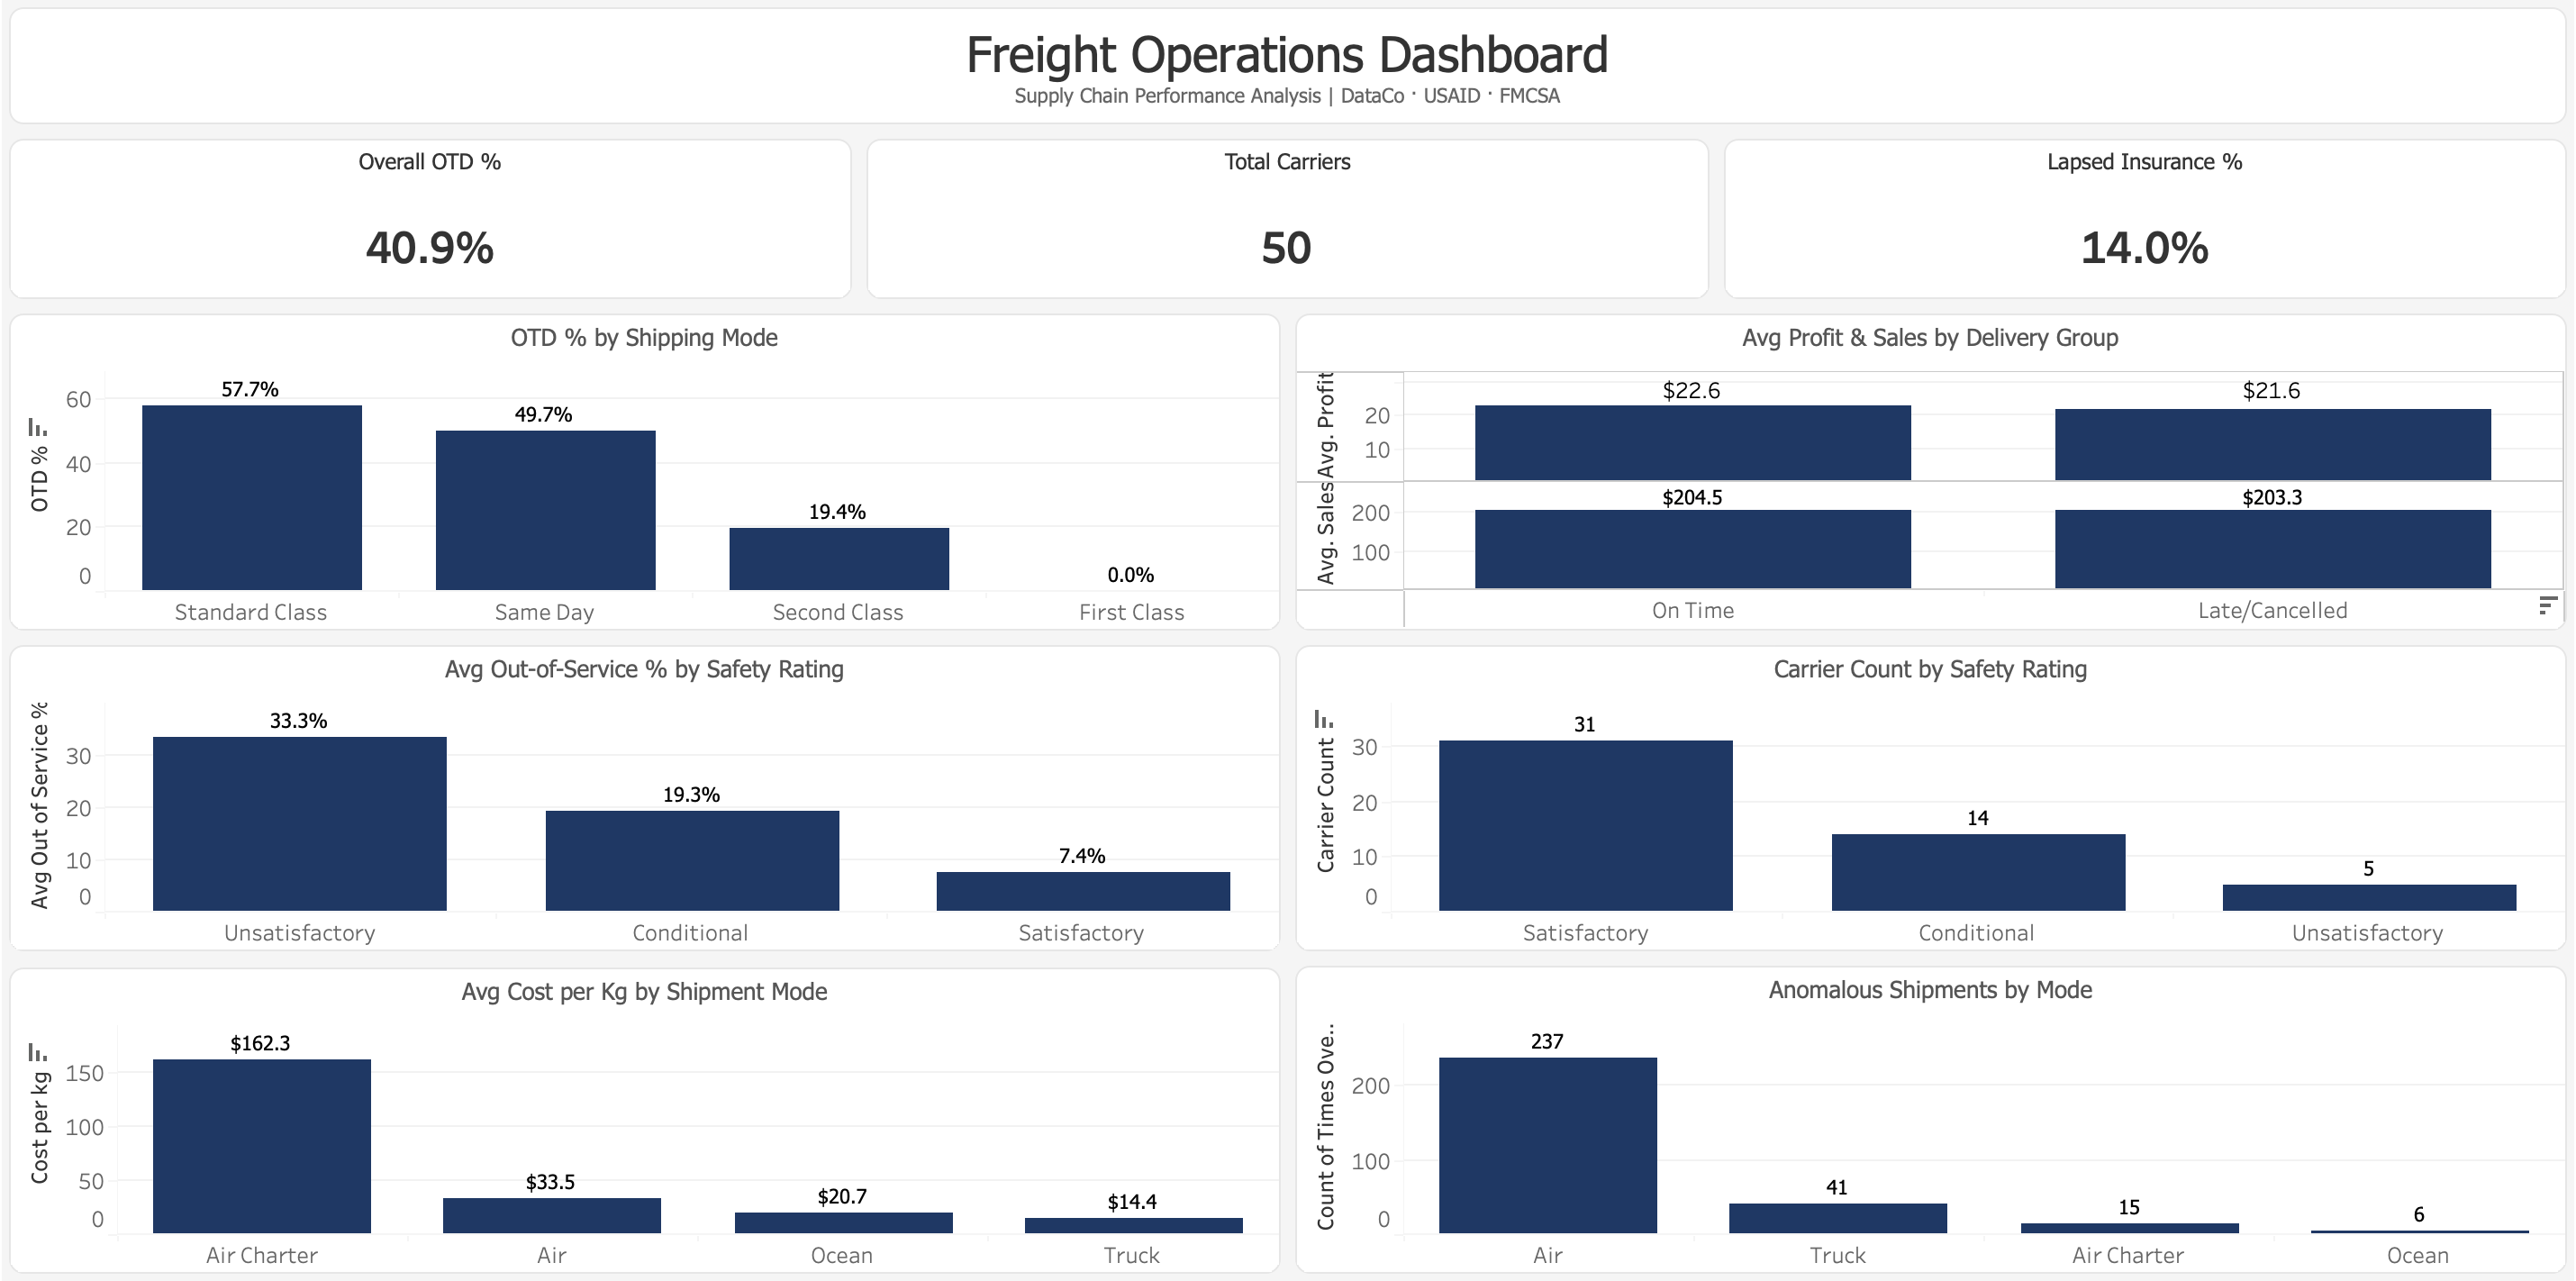

What the dashboard file says about the page in this screenshot:
{"tool":"tableau","page":{"name":"Freight Operations Dashboard","canvas":[1000,1000],"units":"permille","ordinal":0},"visuals":[{"type":"title","box":[5.5,9.6,988.9,87.9]},{"type":"worksheet","title":"Overall OTD %","mark":"Automatic","box":[5.5,97.5,329.6,116.7]},{"type":"worksheet","title":"Total Carriers","mark":"Automatic","box":[335.2,97.5,329.6,116.7]},{"type":"worksheet","title":"Lapsed Insurance %","mark":"Automatic","box":[664.8,97.5,329.6,116.7]},{"type":"worksheet","title":"OTD % by Shipping Mode","mark":"Automatic","rows":["Calculation_4685871081771009"],"cols":["shipping_mode"],"box":[5.5,214.2,494.4,264.7]},{"type":"worksheet","title":"Avg Profit & Sales by Delivery Group","mark":"Automatic","rows":["profit","sales"],"cols":["Calculation_4685871084859394"],"box":[500,214.2,494.5,264.7]},{"type":"worksheet","title":"Avg Out-of-Service % by Safety Rating","mark":"Automatic","rows":["out_of_service_pct"],"cols":["safety_rating"],"box":[5.5,478.9,494.3,255.7]},{"type":"worksheet","title":"Carrier Count by Safety Rating","mark":"Automatic","rows":["carrier_name"],"cols":["safety_rating"],"box":[499.9,478.9,494.6,255.2]},{"type":"worksheet","title":"Anomalous Shipments by Mode","mark":"Automatic","rows":["times_over_avg"],"cols":["shipment_mode"],"box":[499.9,734.1,494.6,256.3]},{"type":"worksheet","title":"Avg Cost per Kg by Shipment Mode","mark":"Automatic","rows":["Calculation_4685871089848323"],"cols":["shipment_mode"],"box":[5.5,734.6,494.3,255.7]}]}

Visuals, with their boxes on the dashboard's canvas, which has no fixed pixel size, in thousandths of its width and height (x1, y1, x2, y2). These are canvas units, not pixel positions in the 2576x1281 screenshot, which may show the page scaled, cropped or inside an application window:
title: locate(6, 10, 994, 98)
"Overall OTD %" worksheet: locate(6, 98, 335, 214)
"Total Carriers" worksheet: locate(335, 98, 665, 214)
"Lapsed Insurance %" worksheet: locate(665, 98, 994, 214)
"OTD % by Shipping Mode" worksheet: locate(6, 214, 500, 479)
"Avg Profit & Sales by Delivery Group" worksheet: locate(500, 214, 994, 479)
"Avg Out-of-Service % by Safety Rating" worksheet: locate(6, 479, 500, 735)
"Carrier Count by Safety Rating" worksheet: locate(500, 479, 994, 734)
"Anomalous Shipments by Mode" worksheet: locate(500, 734, 994, 990)
"Avg Cost per Kg by Shipment Mode" worksheet: locate(6, 735, 500, 990)
